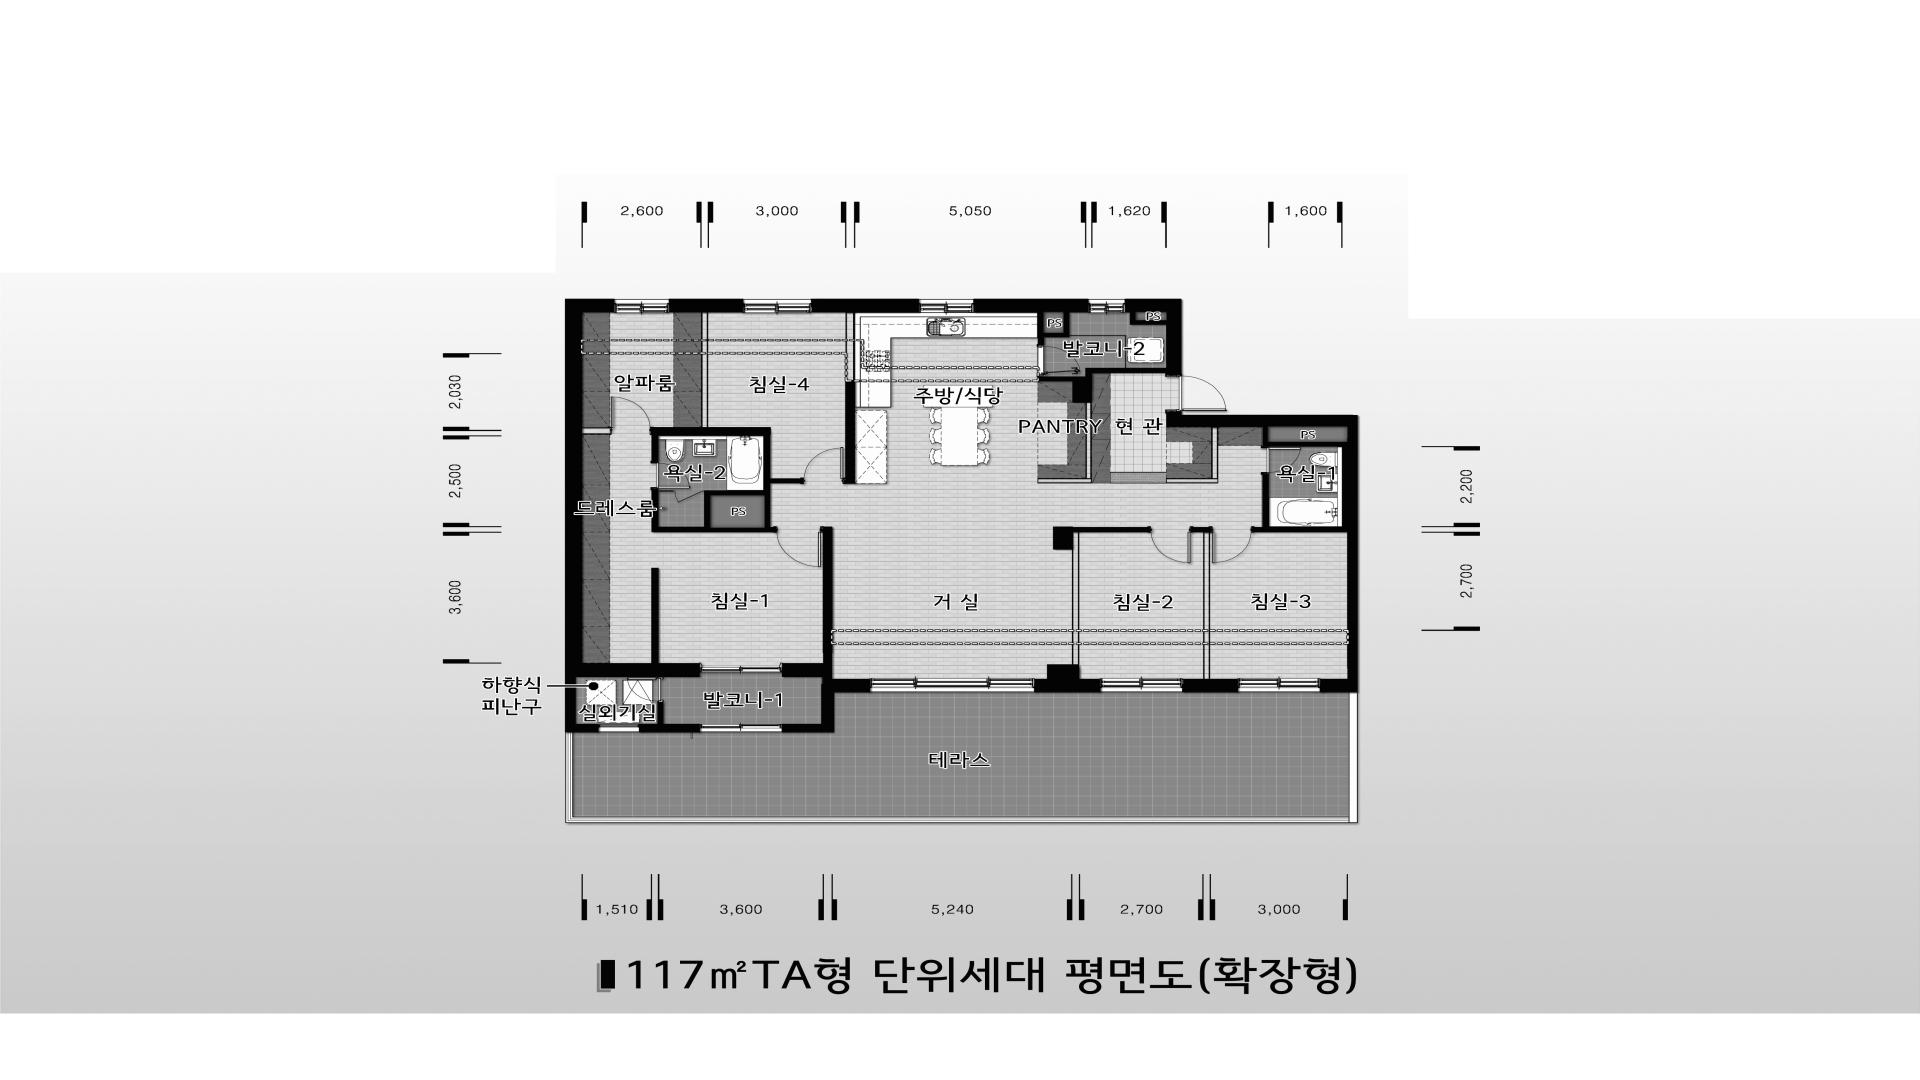background: (0, 0, 1920, 1080)
door: (1166, 375, 1228, 413), (774, 526, 823, 567), (800, 447, 847, 484), (1211, 526, 1255, 563), (1149, 526, 1193, 563), (611, 397, 651, 435), (1036, 344, 1081, 376), (650, 460, 691, 491), (1261, 446, 1300, 475), (626, 676, 663, 702), (659, 491, 704, 504)
wall: (566, 733, 1349, 823), (1166, 413, 1358, 692), (651, 313, 800, 533), (564, 299, 613, 732), (1047, 526, 1149, 679), (1038, 368, 1166, 484), (583, 567, 700, 676), (782, 526, 832, 679), (1255, 475, 1342, 533), (782, 679, 870, 732), (1125, 298, 1182, 375), (1167, 426, 1218, 484), (1193, 526, 1211, 679), (845, 313, 856, 484), (711, 496, 765, 527), (973, 298, 1089, 313), (1262, 427, 1342, 447), (812, 299, 919, 313), (1038, 313, 1069, 343), (670, 299, 742, 313), (1034, 679, 1100, 692), (1183, 679, 1237, 692), (640, 724, 699, 732), (1130, 313, 1166, 324), (583, 427, 611, 434), (657, 702, 663, 724)
window: (870, 678, 1035, 692), (1237, 678, 1320, 692), (1100, 678, 1183, 692), (1349, 692, 1358, 823), (742, 298, 812, 313), (699, 663, 782, 673), (613, 299, 670, 313), (919, 299, 973, 313), (699, 724, 782, 732), (1089, 299, 1125, 313), (597, 724, 640, 732)
